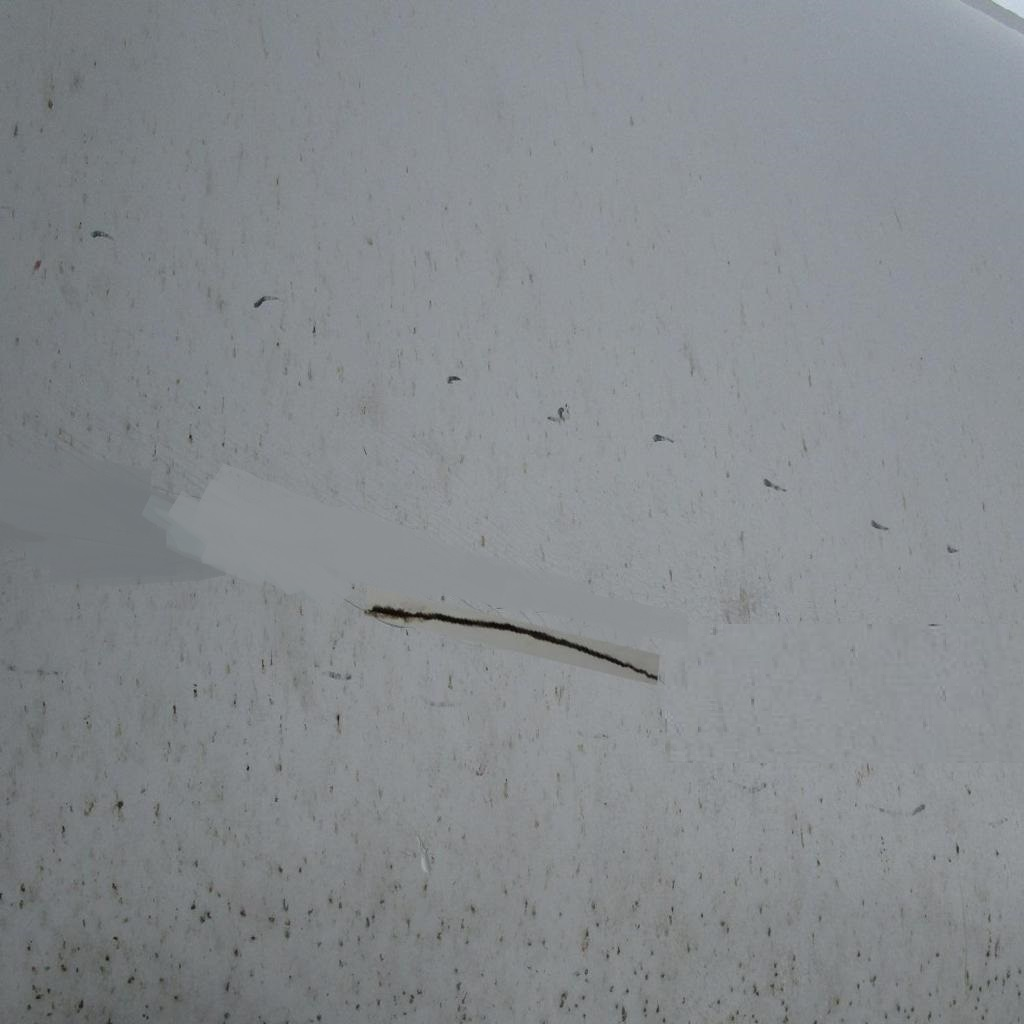hide_craze: (361, 594, 670, 688)
